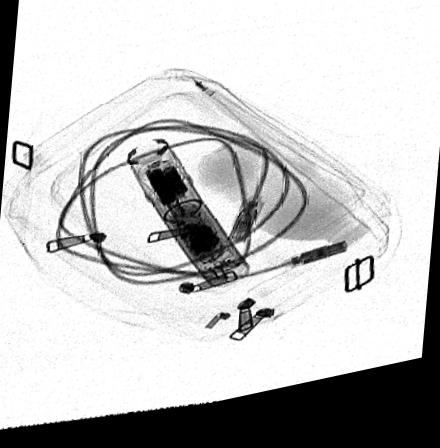Baton: (126, 145, 250, 298)
